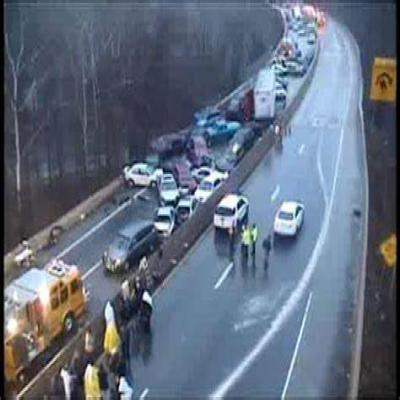iced-road: (132, 22, 350, 399), (241, 325, 293, 396)
